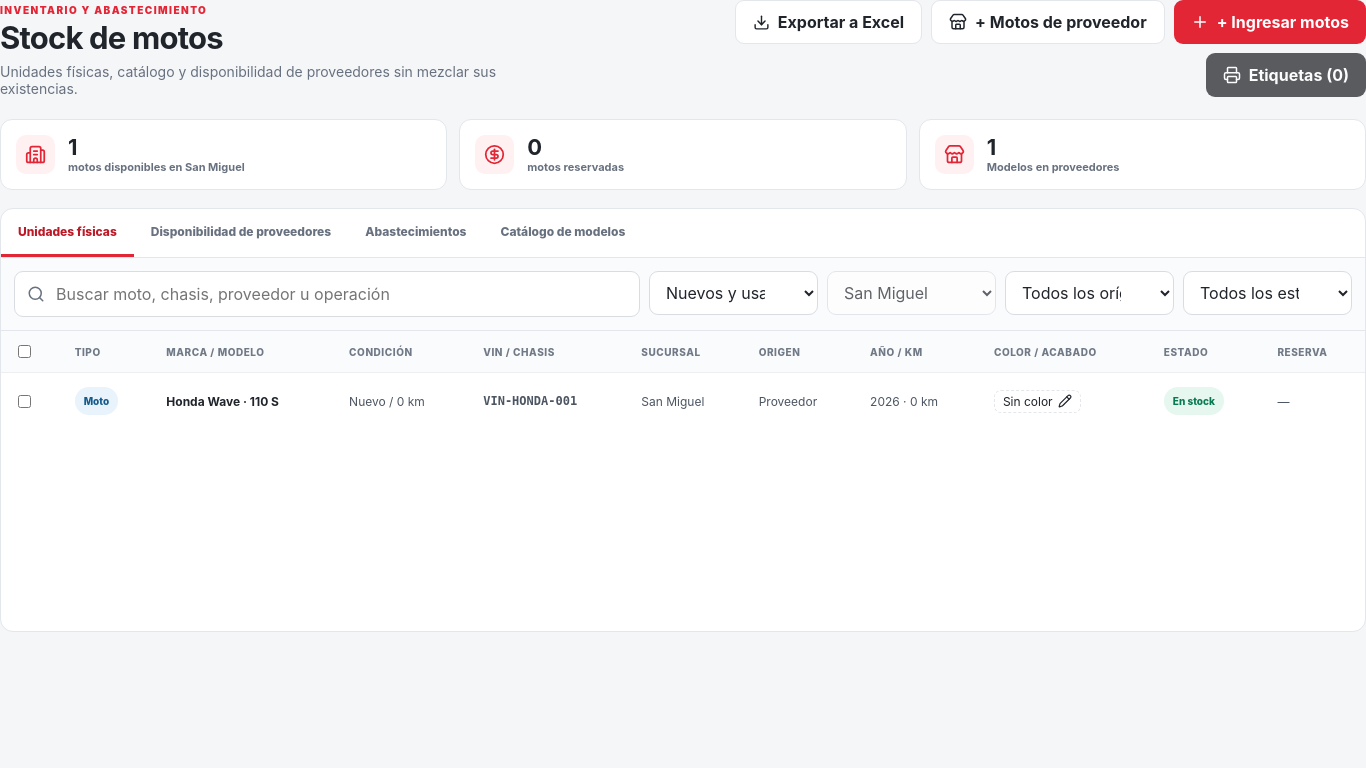
workspace de stock › fija la sucursal en filtros y altas para un usuario de una sola sucursal
Expected: the dropdown named "Sucursal" is disabled, [827, 271, 996, 315]
Expected: the dropdown named "Sucursal" shows "San Miguel", [827, 271, 996, 315]
Click the button "+ Ingresar motos" at (1270, 22), box [1174, 0, 1365, 44]
(page scrolled)
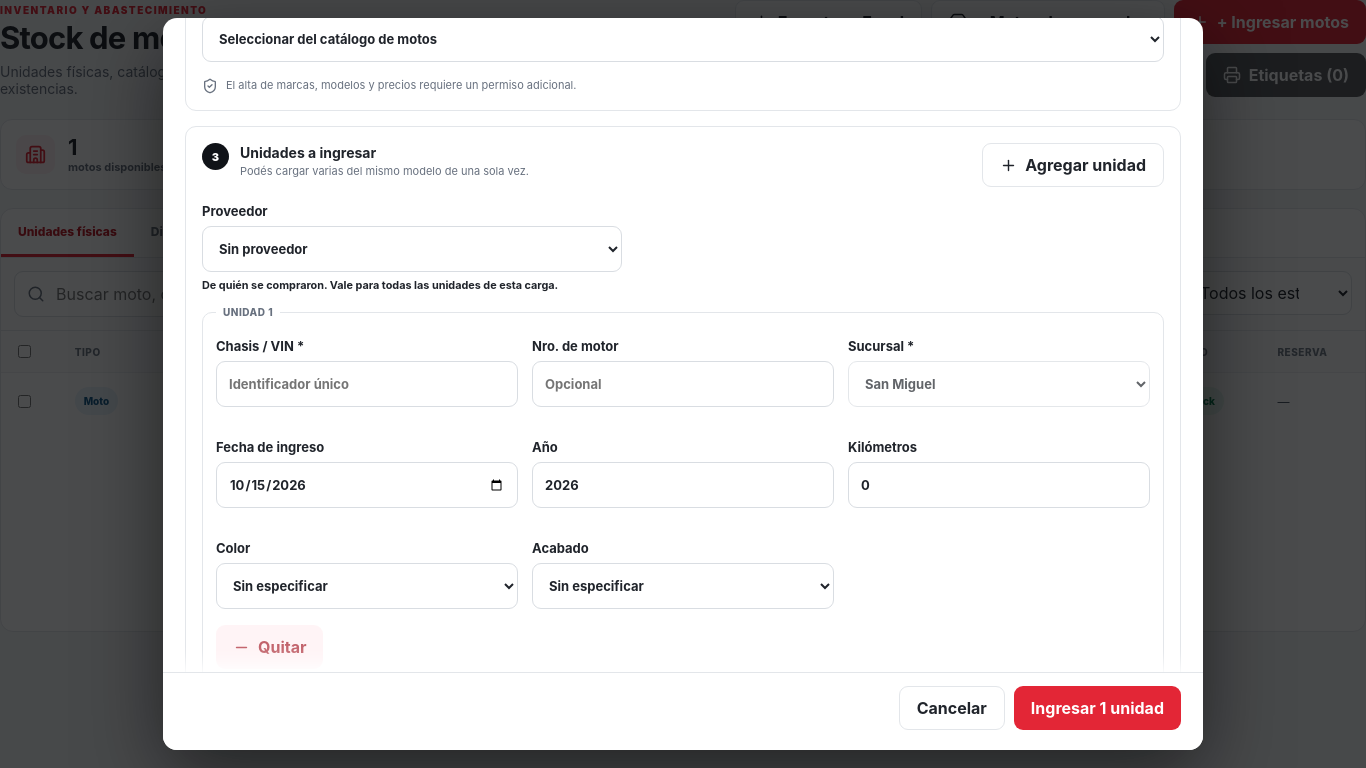
Result: the dropdown named "Sucursal unidad 1" is disabled at [848, 361, 1150, 407]
Result: the dropdown named "Sucursal unidad 1" shows "San Miguel" at [848, 361, 1150, 407]
